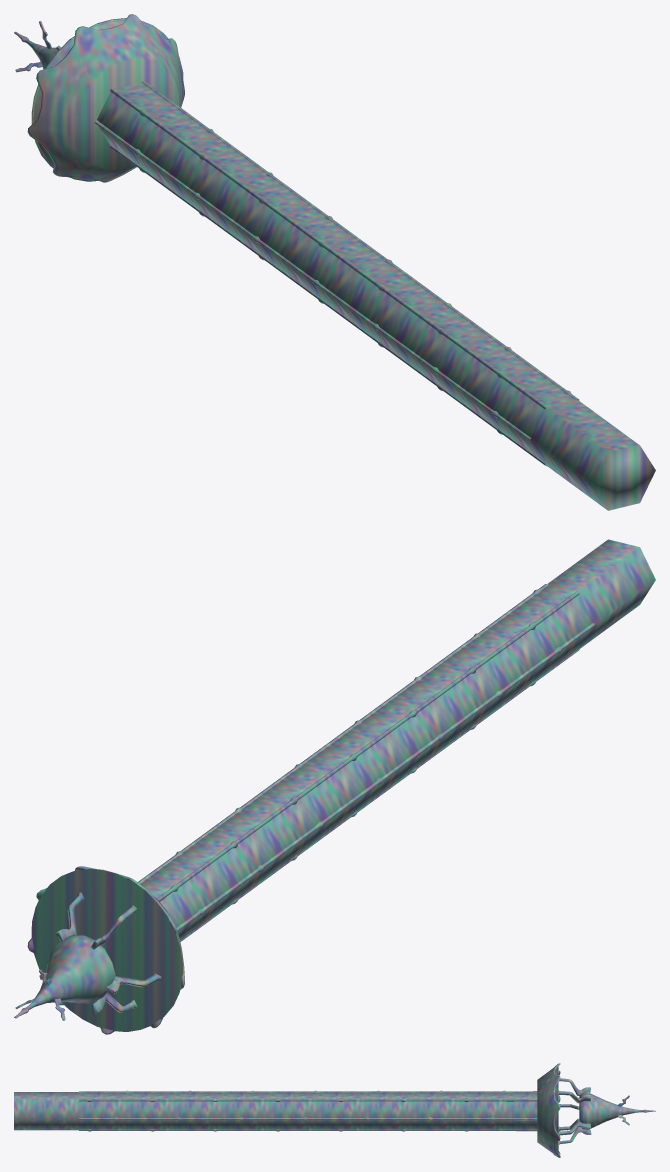
The model's file is transition_temporary.dae.
The picture shows the model from 3 angles, top to bottom: view 1: azimuth 30°, elevation 25°; view 2: azimuth 150°, elevation 25°; view 3: azimuth 270°, elevation 25°; orthographic projection. The views are drawn at different scales.
Visible parts, largest first — view 1: Zelda_TowerShape; view 2: Zelda_TowerShape; view 3: Zelda_TowerShape.
Part boxes in pixels (x1=…): Zelda_TowerShape: x1=14, y1=14, x2=655, y2=510; Zelda_TowerShape: x1=14, y1=539, x2=655, y2=1034; Zelda_TowerShape: x1=14, y1=1063, x2=655, y2=1157.
Size of the model in its own units: 186 by 1256 by 184.
Materials: 1 (1 with a texture image).
